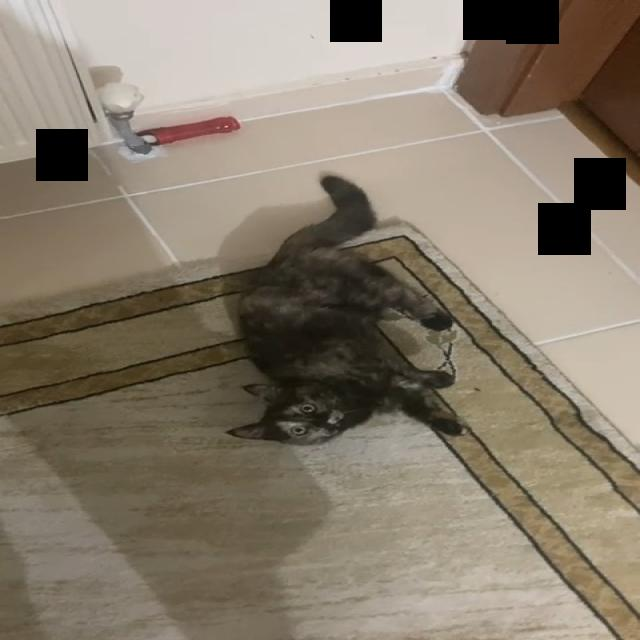authorized: (223, 172, 464, 446)
